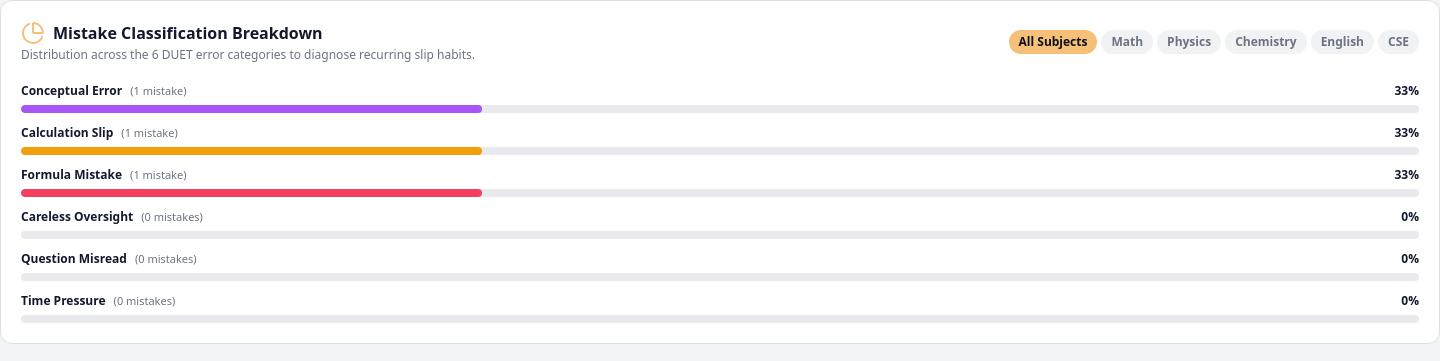
Test: MistakeTypeDistribution › shows empty state when selected subject has 0 mistakes
# Click on CSE pill
Click the button "CSE": (1398, 42) [1378,30,1419,54]
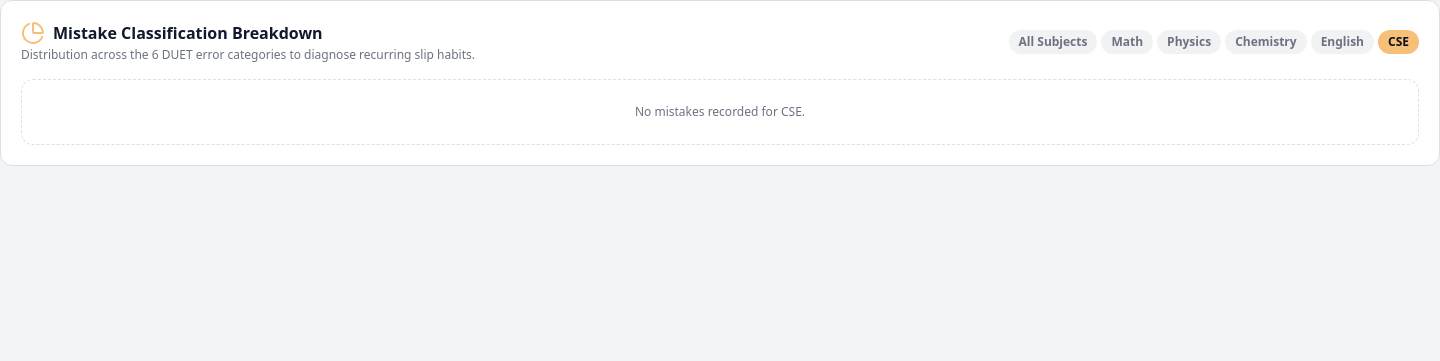
Now the text "No mistakes recorded for CSE." is shown, box [21,79,1419,145]
